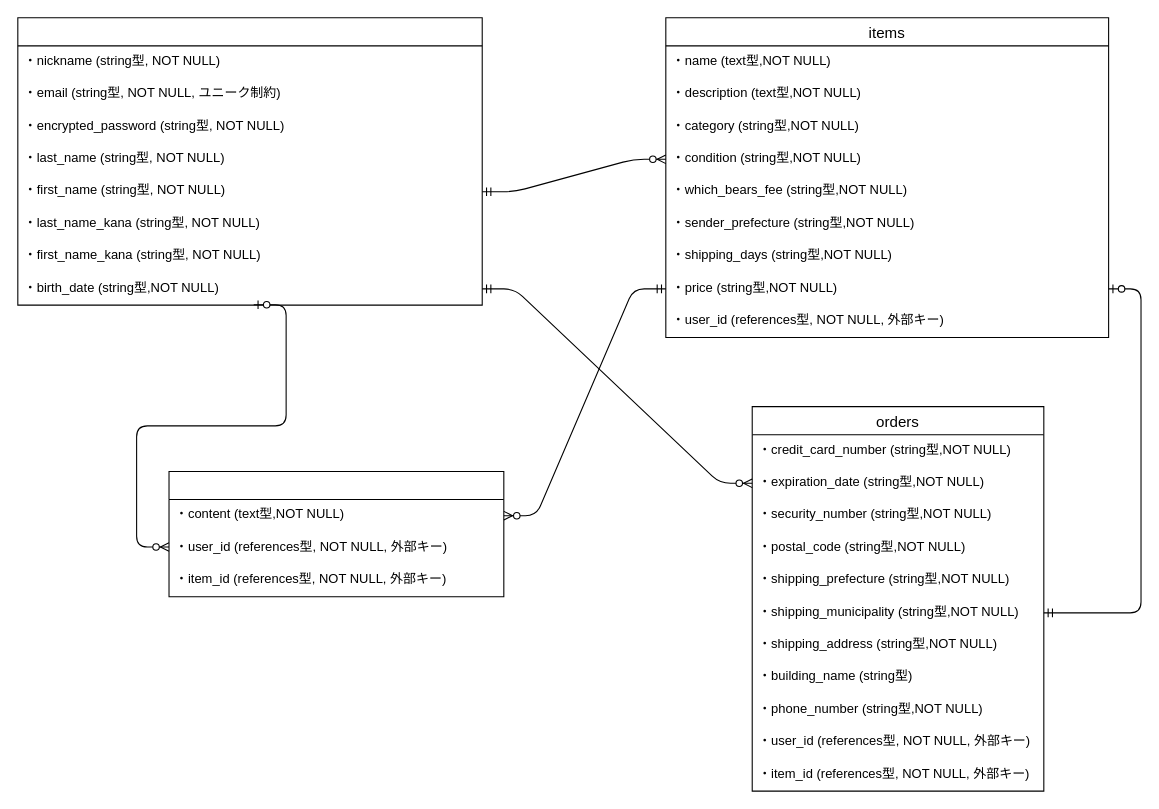
Image size: 1159x809. Some labels were removed from this diagram. The shapes that lost their labels are listed below. From the top down, each one's box as (x1, y1, x2, y2) in pixels, then its label:
(17, 17, 482, 305): users
(168, 470, 504, 597): comments
